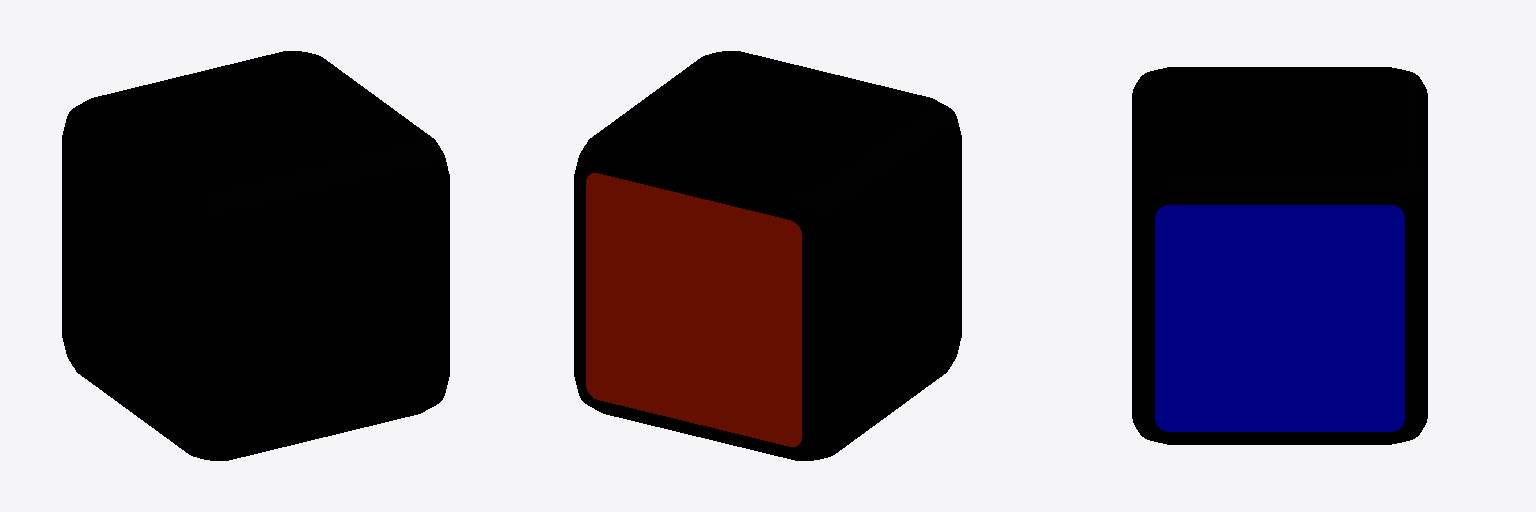
The model's file is edge_bo.obj.
3 views of the same model, side by side, from view 1: azimuth 30°, elevation 25°; view 2: azimuth 150°, elevation 25°; view 3: azimuth 270°, elevation 25° (orthographic).
Visible parts, largest first — view 1: Cube; view 2: Cube; view 3: Cube.
Boxes of the visible parts, x1,y1,x2,y2 form: Cube: [62, 51, 449, 460]; Cube: [574, 51, 961, 460]; Cube: [1132, 67, 1427, 444].
Size of the model in its own units: 2 by 2 by 2.